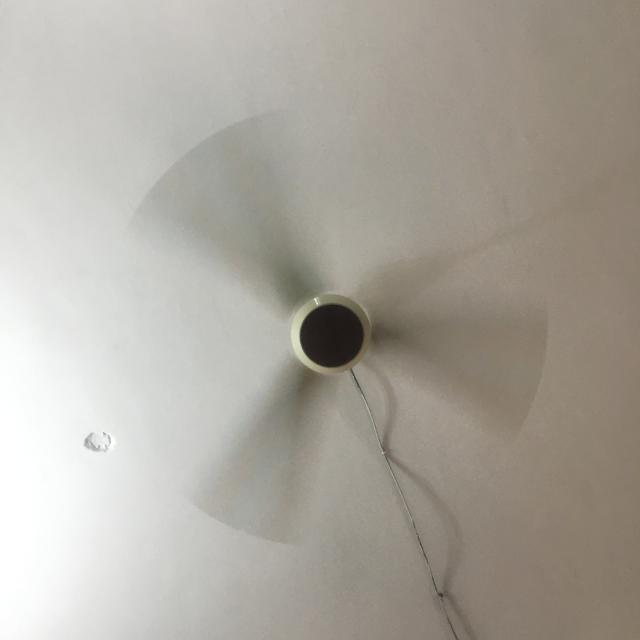on: (119, 102, 564, 556)
